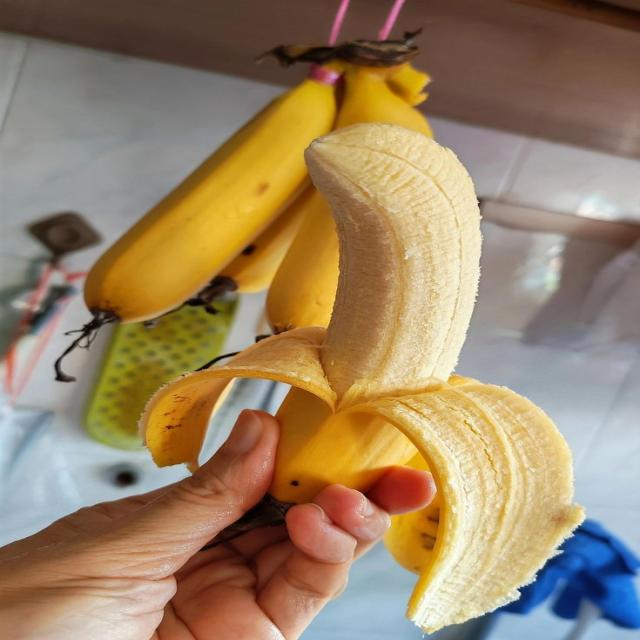banana: (142, 124, 582, 631), (85, 79, 336, 322), (213, 184, 315, 292), (267, 193, 338, 331), (388, 63, 431, 106)
